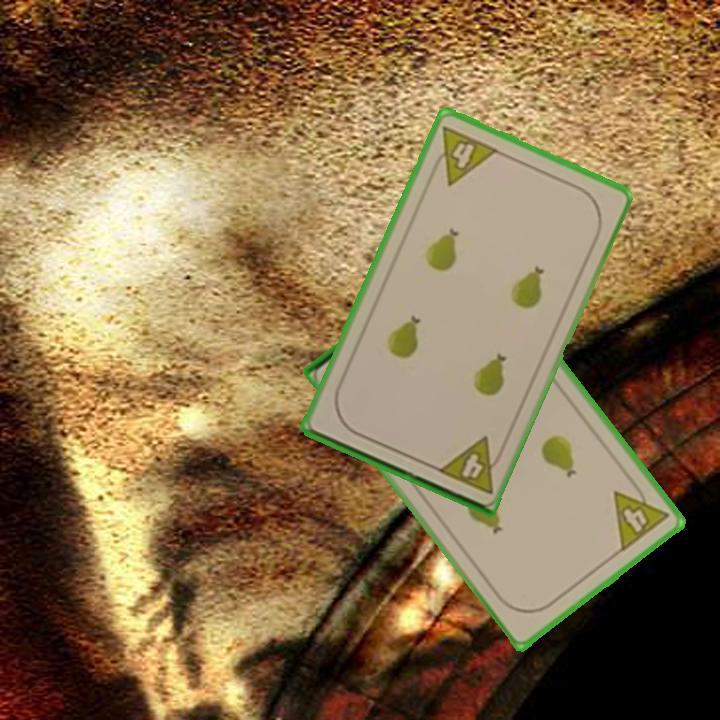4p: (425, 122, 501, 188), (610, 475, 672, 555), (433, 433, 508, 497)
